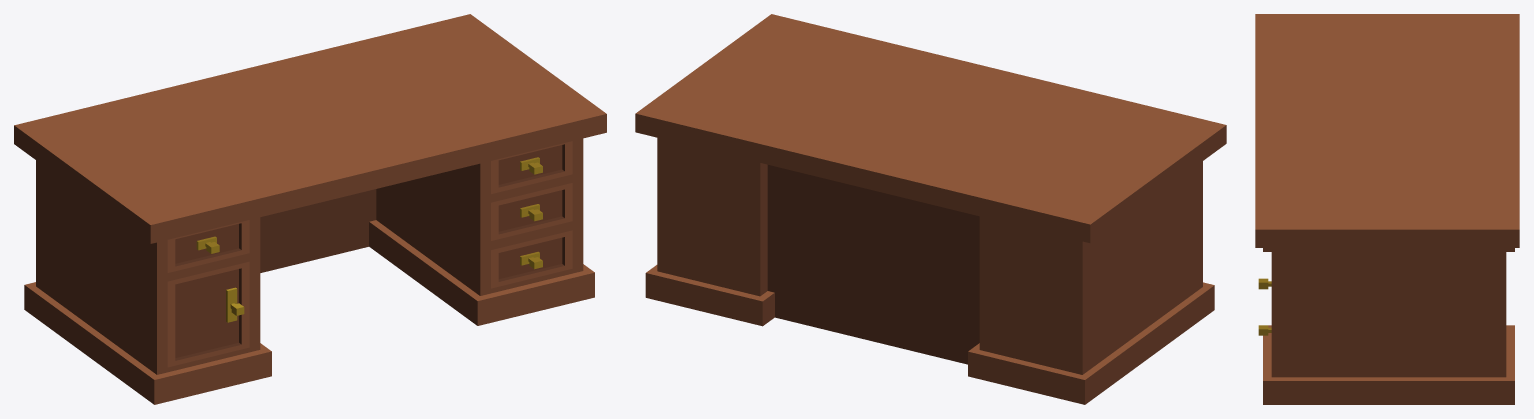
File: desk_2.obj
3 views of the same model, side by side, from view 1: azimuth 30°, elevation 25°; view 2: azimuth 150°, elevation 25°; view 3: azimuth 270°, elevation 25° (orthographic). The views are drawn at different scales.
Parts seen in each view (by area): view 1: Prop_Desk_02_Malla.071; view 2: Prop_Desk_02_Malla.071; view 3: Prop_Desk_02_Malla.071.
Part boxes in pixels (box(x1,y1,x2,y2)): Prop_Desk_02_Malla.071: box(14, 14, 606, 404); Prop_Desk_02_Malla.071: box(635, 14, 1226, 404); Prop_Desk_02_Malla.071: box(1255, 14, 1519, 404).
Size of the model in its own units: 175 by 67.58 by 90.56.
